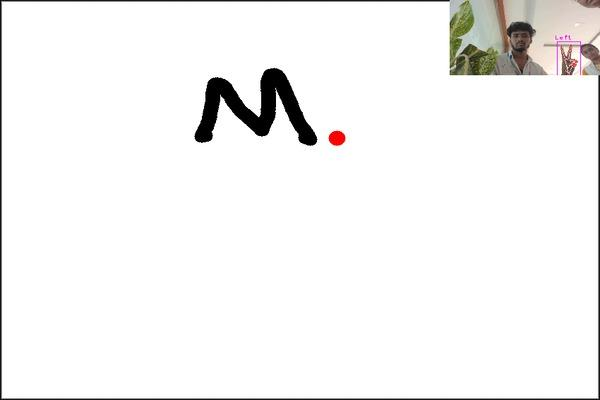M: (192, 65, 318, 148)
